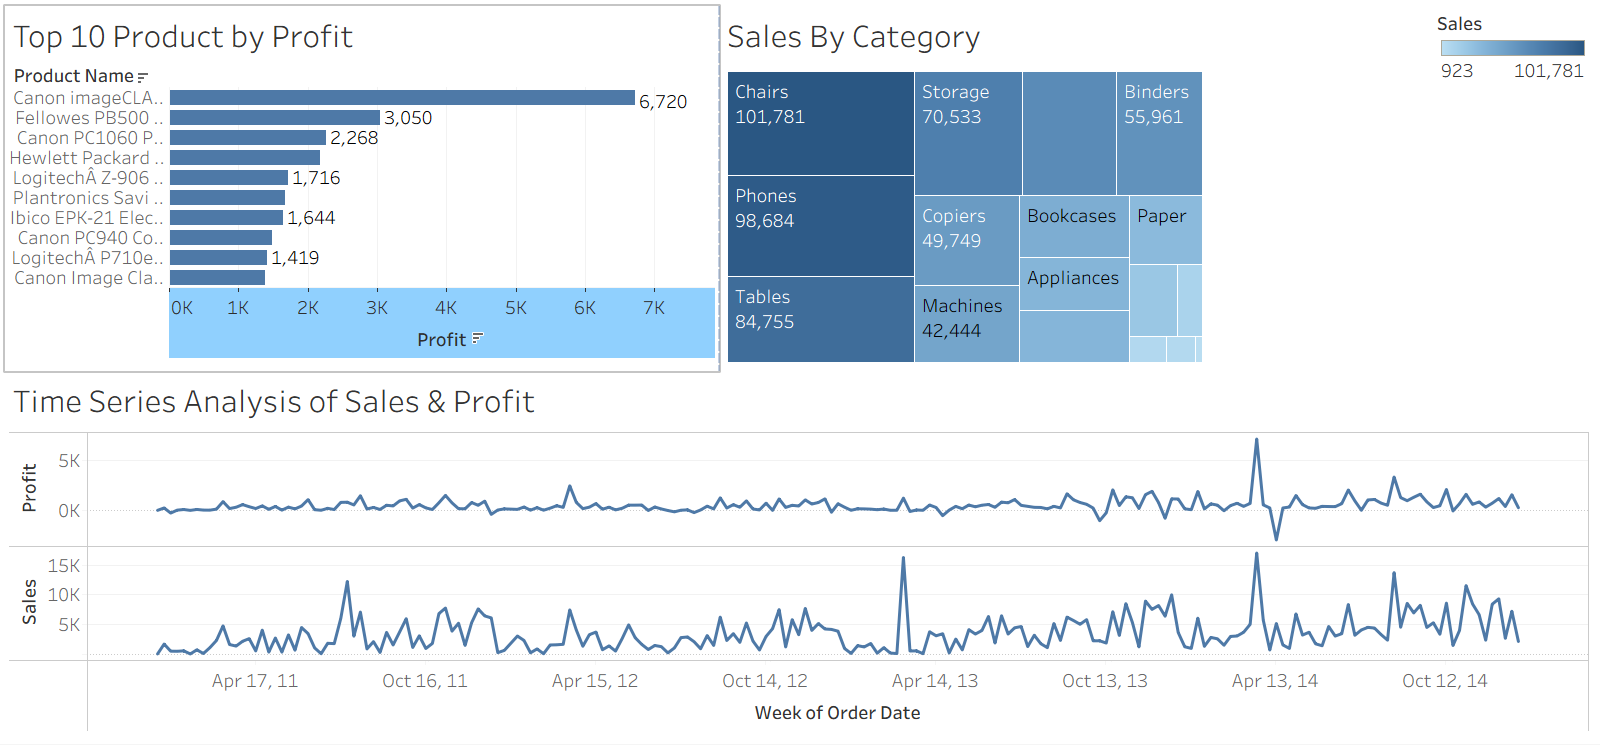

The page's visual inventory and layout, read from the dashboard file:
{"tool":"tableau","page":{"name":"Dashboard 1","canvas":[1000,1000],"units":"permille","ordinal":0},"visuals":[{"type":"worksheet","title":"Sheet 3","mark":"Automatic","rows":["Product Name"],"cols":["Profit"],"box":[5,10.7,445.1,489.3]},{"type":"worksheet","title":"Sheet 2","mark":"Automatic","box":[450.1,10.7,445.2,489.3]},{"type":"legend","title":"Sheet 2","param":"[federated.076yt6m1prfsq21ckhfas0cdgv84].[sum:Sales:qk]","box":[895.3,10.7,99.8,108.6]},{"type":"worksheet","title":"Sheet 4","mark":"Automatic","rows":["Profit","Sales"],"cols":["Order Date"],"box":[5,500,990,489.3]}]}

Visuals, with their boxes on the dashboard's canvas, which has no fixed pixel size, in thousandths of its width and height (x1, y1, x2, y2). These are canvas units, not pixel positions in the 1600x745 screenshot, which may show the page scaled, cropped or inside an application window:
"Sheet 3" worksheet: 5/11/450/500
"Sheet 2" worksheet: 450/11/895/500
"Sheet 2" legend: 895/11/995/119
"Sheet 4" worksheet: 5/500/995/989
